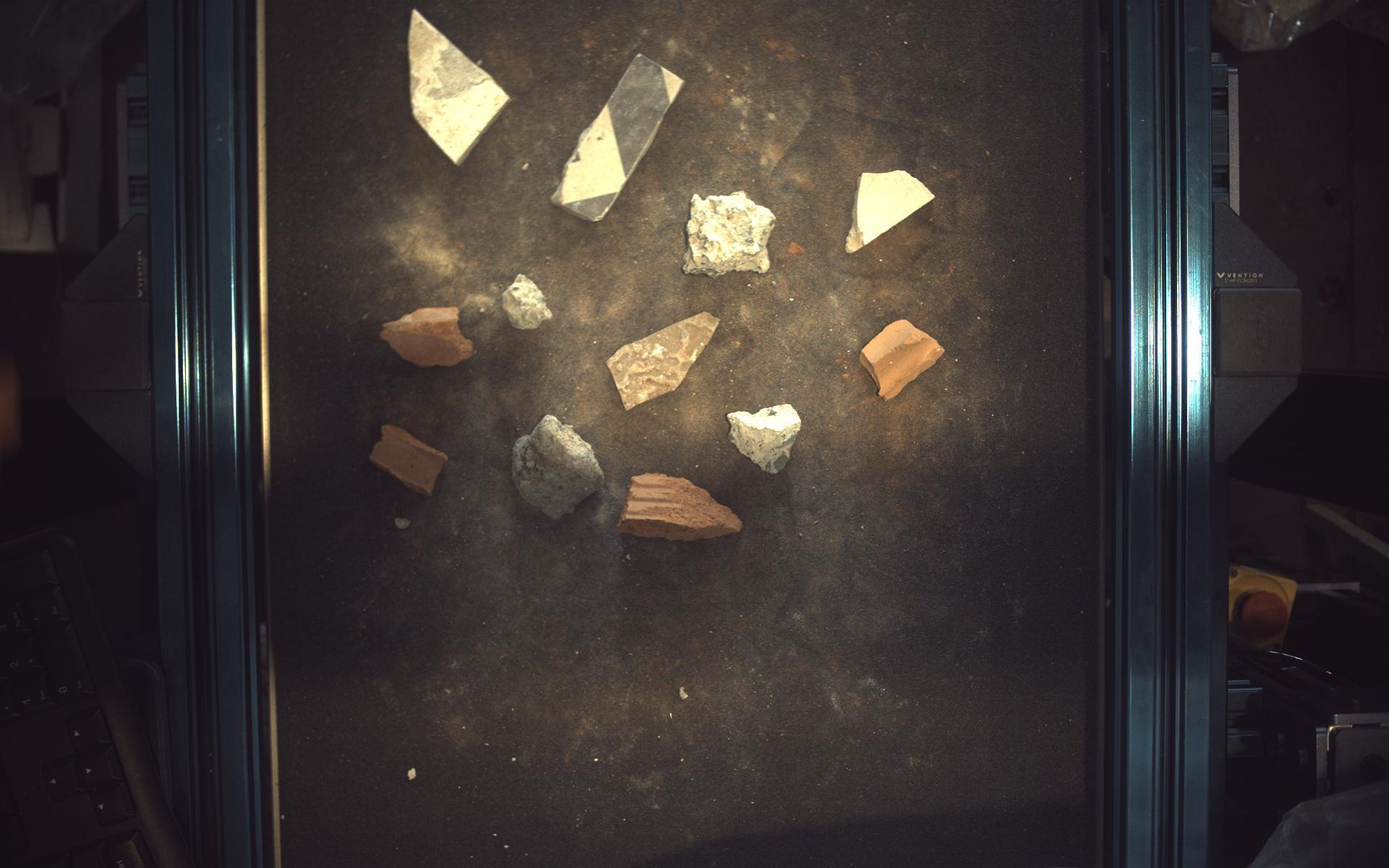brick: (618, 474, 743, 541), (861, 319, 947, 399), (369, 425, 448, 496), (381, 307, 472, 367)
concrete: (512, 414, 605, 520), (684, 190, 776, 276), (730, 404, 802, 474), (502, 273, 552, 329)
tile: (552, 54, 684, 221), (408, 8, 509, 163), (608, 312, 721, 410), (847, 169, 936, 252)
